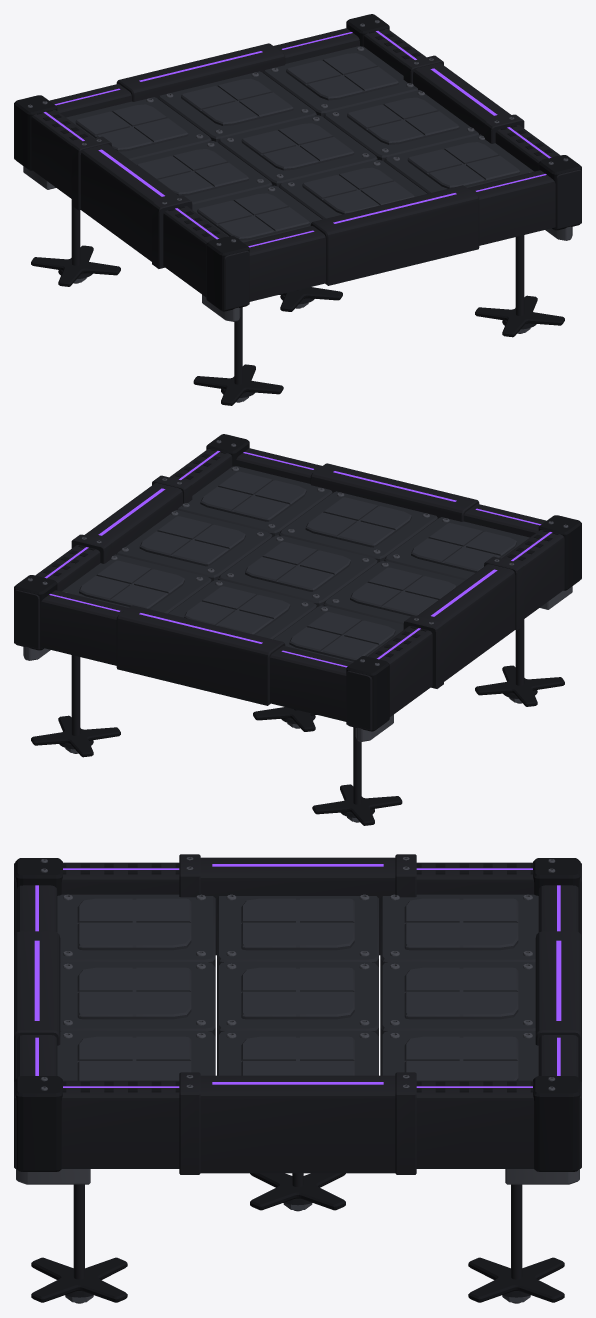
Rendered from wall-fortification-hatch-sealed.glb.
3 views of the same model, one above another, from view 1: azimuth 30°, elevation 25°; view 2: azimuth 150°, elevation 25°; view 3: azimuth 270°, elevation 25° (orthographic). The views are drawn at different scales.
Visible parts, largest first — view 1: body_LOD0; view 2: body_LOD0; view 3: body_LOD0.
Part boxes in pixels (x1,y1,x2,y2): body_LOD0: (14, 14, 581, 405); body_LOD0: (14, 434, 581, 825); body_LOD0: (14, 854, 581, 1303).
Size of what is drawn, in the model's own units: 1.2 by 0.552 by 1.2.
